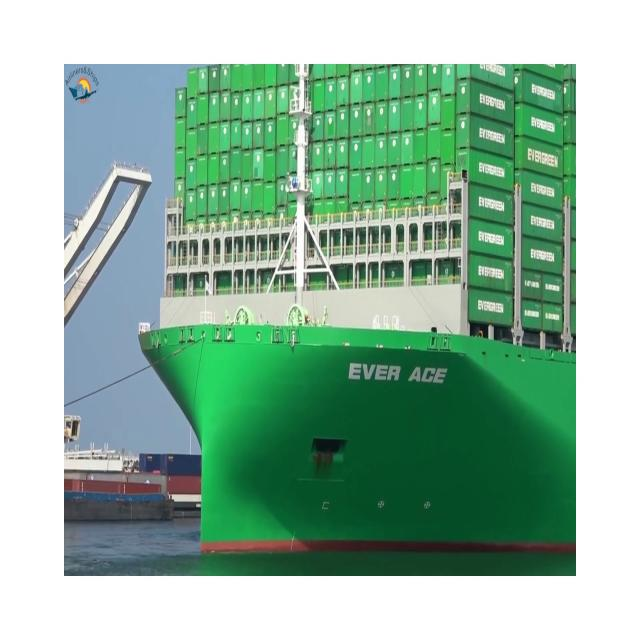OCR: (339, 353, 465, 398)
